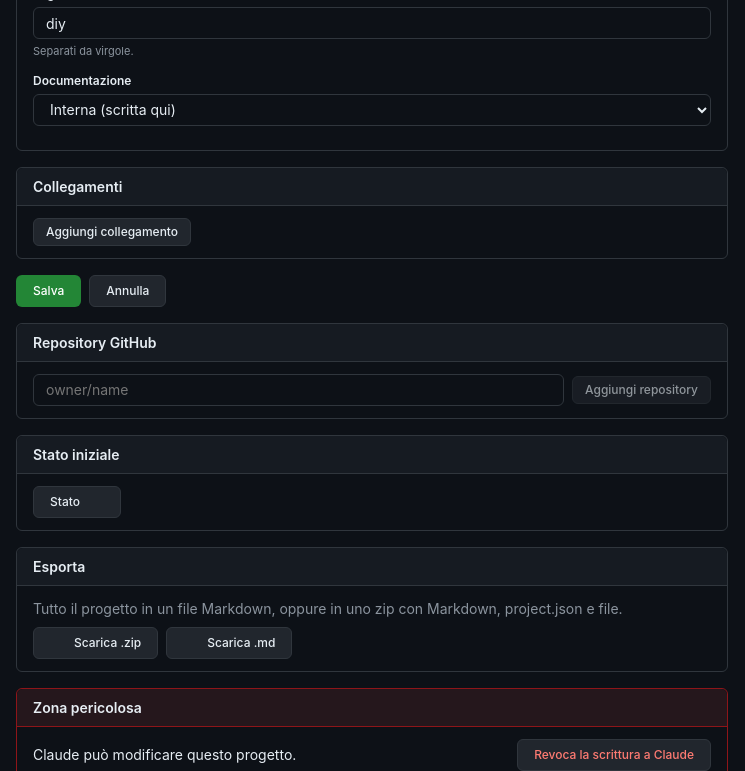
Test: D8: docs-source field on the edit page › the select shows repo after linking the first repo
The width and height of the screenshot is (745, 771).
(page scrolled)
Type "example/forno" into the field named "Repository (owner/nome)" at point(298, 390), box [33, 374, 564, 406]
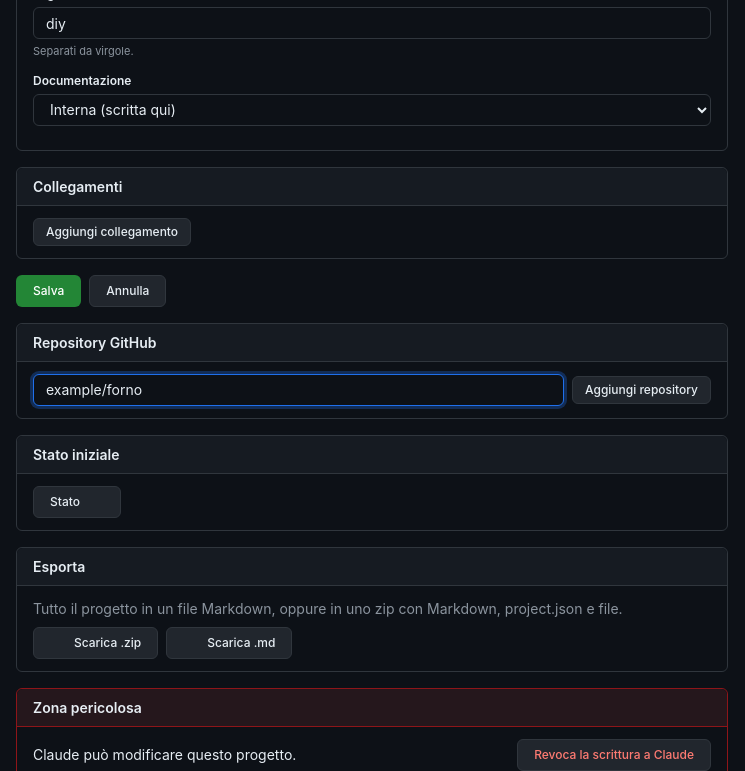
Click the button "Aggiungi repository" at point(642, 390), box [572, 376, 711, 404]
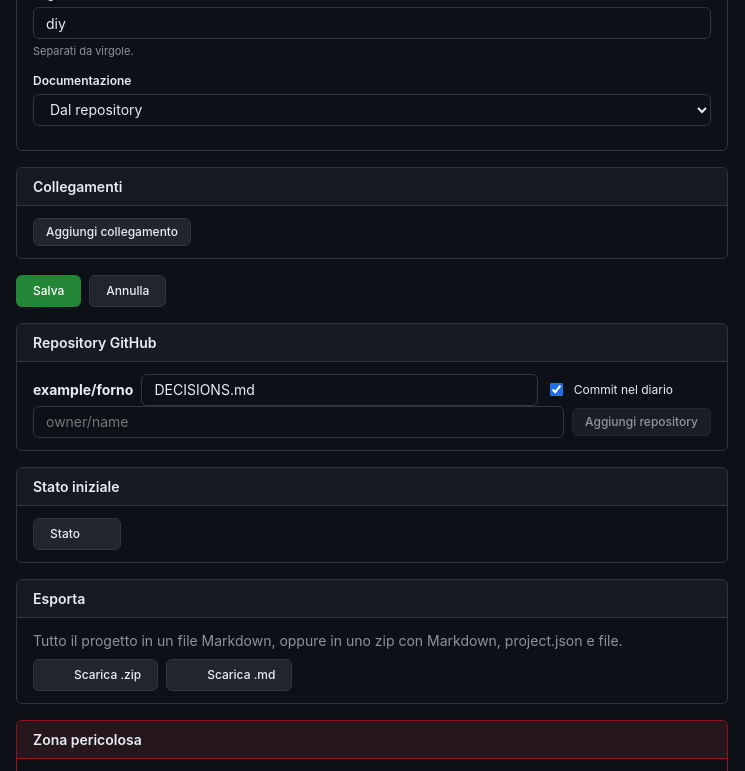
Now the text "example/forno" is shown, box [33, 379, 133, 400]
Now the dropdown labelled "Documentazione" shows "Dal repository", box [33, 94, 711, 126]
